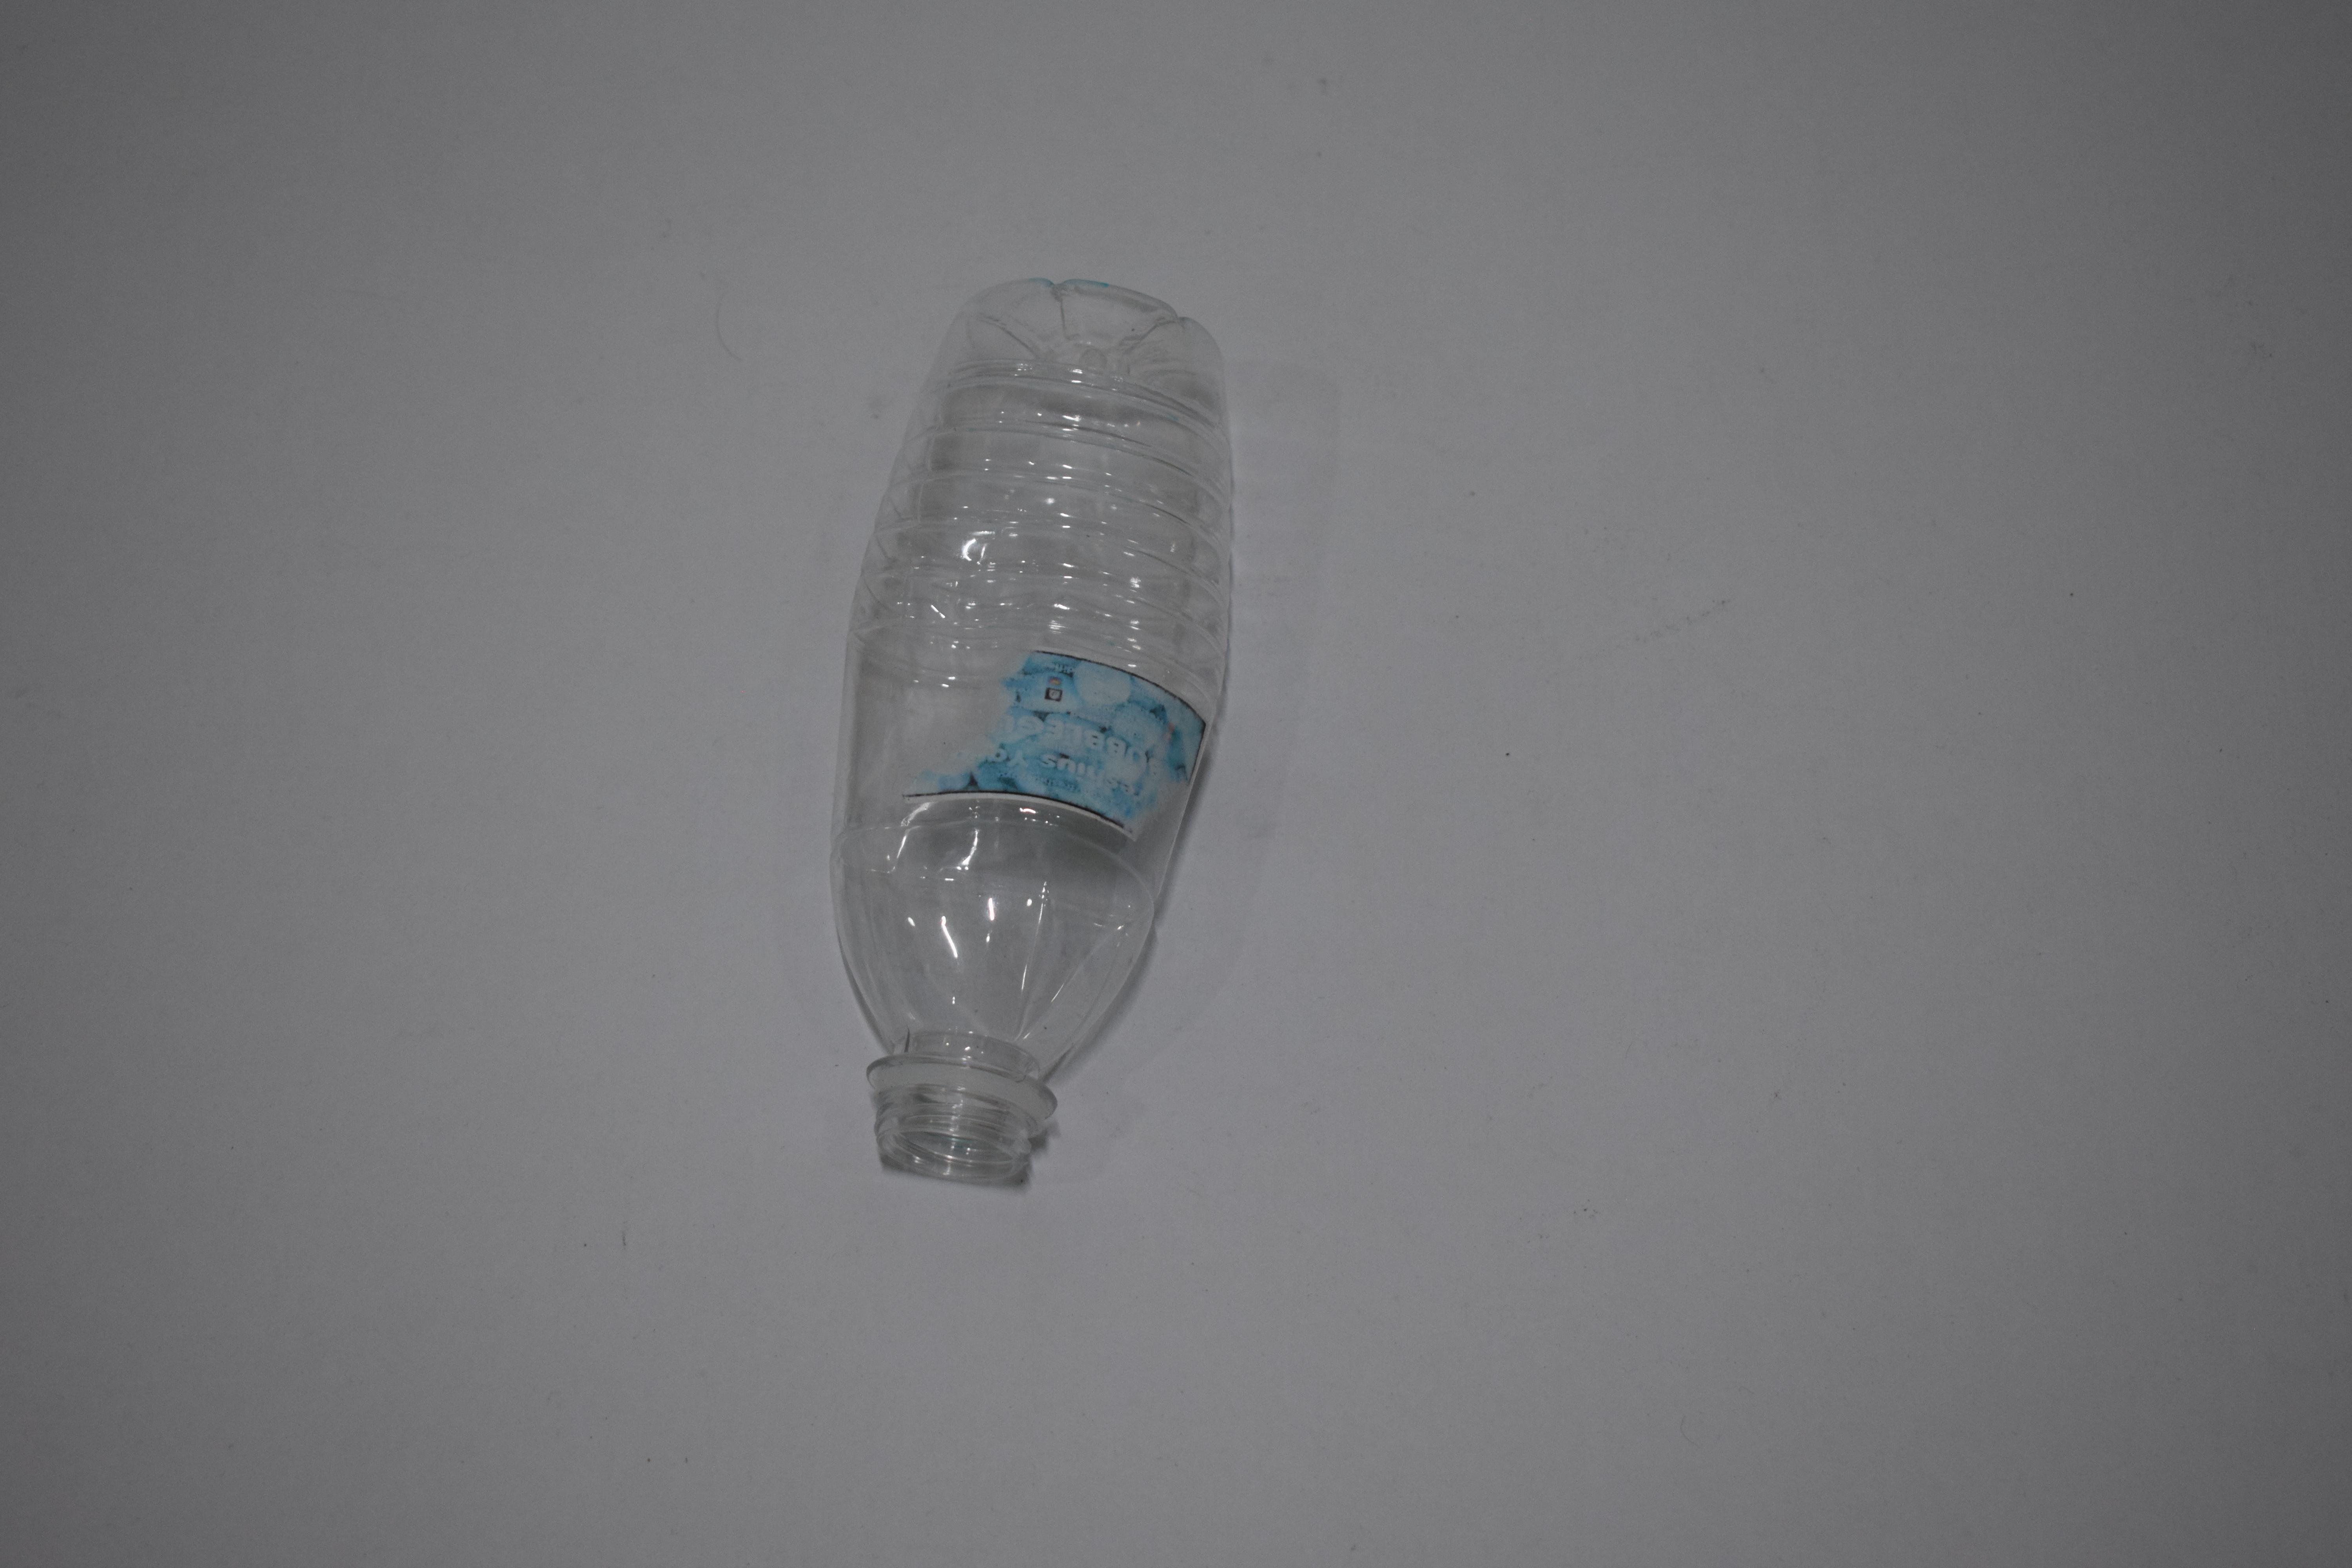bottle: (823, 651, 1239, 791)
